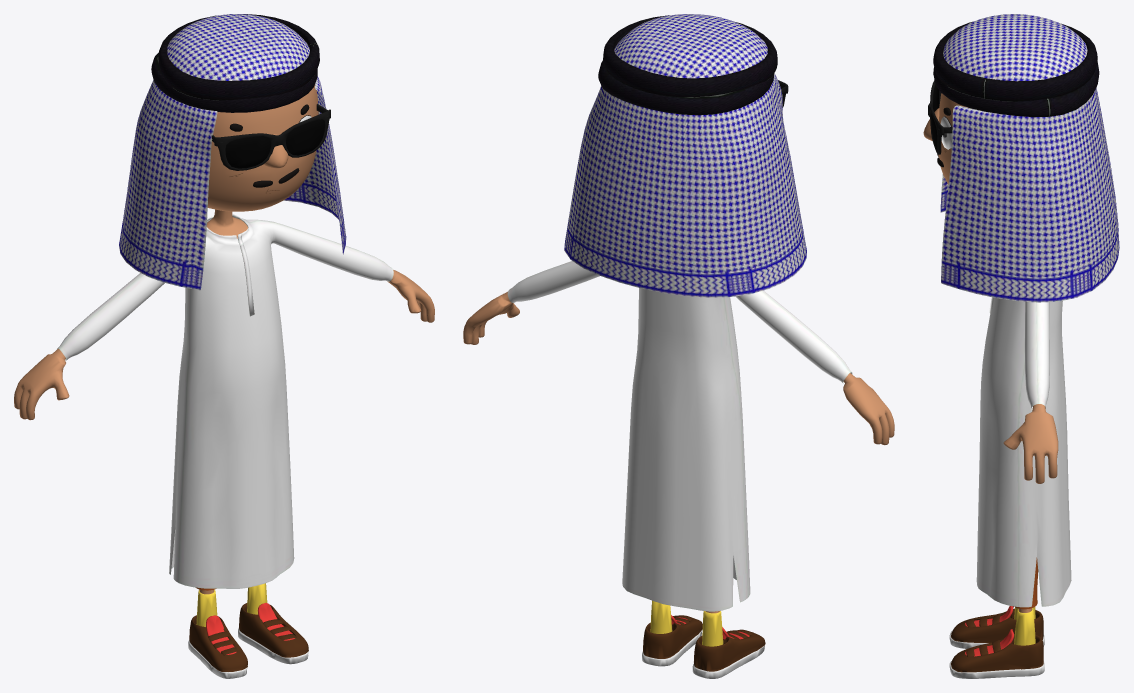
Rendered from Naser.fbx.
The picture shows the model from 3 angles, left to right: view 1: azimuth 30°, elevation 25°; view 2: azimuth 150°, elevation 25°; view 3: azimuth 270°, elevation 25°; orthographic projection. The views are drawn at different scales.
Parts seen in each view (by area): view 1: ActualShoes_Cube.003; view 2: ActualShoes_Cube.003; view 3: ActualShoes_Cube.003.
Part boxes in pixels (bbox=[...]): ActualShoes_Cube.003: bbox=[14, 14, 434, 678]; ActualShoes_Cube.003: bbox=[463, 14, 894, 678]; ActualShoes_Cube.003: bbox=[923, 14, 1119, 678].
Size of the model in its own units: 159 by 228 by 64.91.
